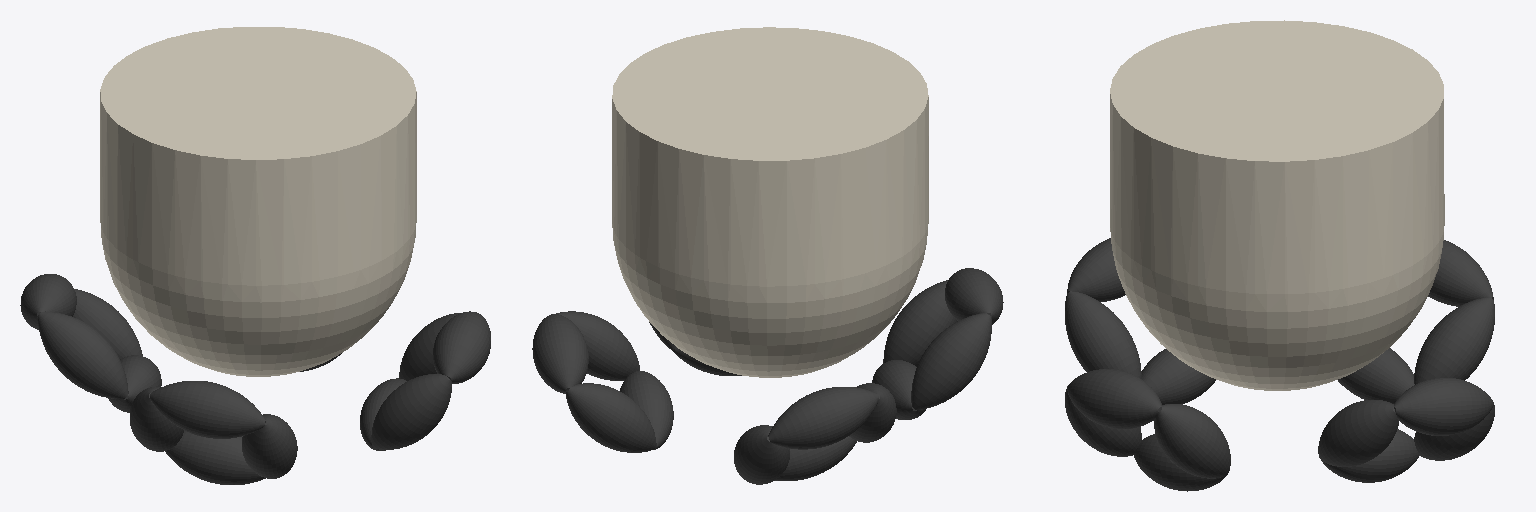
URDF robot description (pure):
<?xml version="1.0" ?>
<!-- =================================================================================== -->
<!-- |    This document was autogenerated by xacro from urdf/pure.urdf.xacro           | -->
<!-- |    EDITING THIS FILE BY HAND IS NOT RECOMMENDED                                 | -->
<!-- =================================================================================== -->
<!-- This URDF was automatically created by SolidWorks to URDF Exporter! Originally created by [author] ([email redacted]) 
     Commit Version: 1.6.0-4-g7f85cfe  Build Version: 1.6.7995.38578
     For more information, please see http://wiki.ros.org/sw_urdf_exporter -->
<robot name="pure">
  <link name="base_link">
    <inertial>
      <origin rpy="0 0 0" xyz="0 0.249140394438139 8.43545918737274E-19"/>
      <mass value="1.1584281172172"/>
      <inertia ixx="0.00684464813757771" ixy="0" ixz="1.64016473110534E-35" iyy="0.00691263481880664" iyz="4.17419320632715E-20" izz="0.00684464813757771"/>
    </inertial>
    <visual>
      <origin rpy="0 0 0" xyz="0 0 0"/>
      <geometry>
        <mesh filename="package://pure/meshes/base_link.STL"/>
      </geometry>
      <material name="">
        <color rgba="0.843137254901961 0.815686274509804 0.752941176470588 1"/>
      </material>
    </visual>
    <collision>
      <origin rpy="0 0 0" xyz="0 0 0"/>
      <geometry>
        <mesh filename="package://pure/meshes/base_link.STL"/>
      </geometry>
    </collision>
  </link>
  <link name="omni_link_0">
    <inertial>
      <origin rpy="0 0 0" xyz="-1.7913E-18 3.2929E-19 1.715E-17"/>
      <mass value="0.08478"/>
      <inertia ixx="1.5E-05" ixy="-2.788E-23" ixz="2.3372E-20" iyy="2.4349E-05" iyz="1.3086E-24" izz="1.5E-05"/>
    </inertial>
    <visual>
      <origin rpy="0 0 0" xyz="0 0 0"/>
      <geometry>
        <mesh filename="package://pure/meshes/omni_link.STL"/>
      </geometry>
      <material name="">
        <color rgba="0.89804 0.91765 0.92941 1"/>
      </material>
    </visual>
    <collision>
      <origin rpy="0 0 0" xyz="0 0 0"/>
      <geometry>
        <mesh filename="package://pure/meshes/omni_link.STL"/>
      </geometry>
    </collision>
  </link>
  <link name="omni_link_0_roller_link_0">
    <inertial>
      <origin rpy="0 0 0" xyz="-5.5511E-17 -6.9389E-18 3.8164E-17"/>
      <mass value="0.06464"/>
      <inertia ixx="1.7875E-05" ixy="3.1764E-22" ixz="7.889E-06" iyy="2.5764E-05" iyz="-2.9646E-21" izz="1.7875E-05"/>
    </inertial>
    <visual>
      <origin rpy="0 0 0" xyz="0 0 0"/>
      <geometry>
        <mesh filename="package://pure/meshes/roller_link_0.STL"/>
      </geometry>
      <material name="">
        <color rgba="0.29804 0.29804 0.29804 1"/>
      </material>
    </visual>
    <collision>
      <origin rpy="0 0 0" xyz="0 0 0"/>
      <geometry>
        <mesh filename="package://pure/meshes/roller_link_0.STL"/>
      </geometry>
    </collision>
  </link>
  <joint name="omni_link_0_roller_joint_0" type="continuous">
    <origin rpy="1.8823 0.29744 -3.0945" xyz="0.030052 -0.030052 0"/>
    <parent link="omni_link_0"/>
    <child link="omni_link_0_roller_link_0"/>
    <axis xyz="0.70711 0 -0.70711"/>
  </joint>
  <link name="omni_link_0_roller_link_1">
    <inertial>
      <origin rpy="0 0 0" xyz="-5.5511E-17 7.0183E-38 -2.0817E-17"/>
      <mass value="0.06464"/>
      <inertia ixx="1.7875E-05" ixy="-1.0848E-40" ixz="-7.889E-06" iyy="2.5764E-05" iyz="-1.147E-40" izz="1.7875E-05"/>
    </inertial>
    <visual>
      <origin rpy="0 0 0" xyz="0 0 0"/>
      <geometry>
        <mesh filename="package://pure/meshes/roller_link_1.STL"/>
      </geometry>
      <material name="">
        <color rgba="0.29804 0.29804 0.29804 1"/>
      </material>
    </visual>
    <collision>
      <origin rpy="0 0 0" xyz="0 0 0"/>
      <geometry>
        <mesh filename="package://pure/meshes/roller_link_1.STL"/>
      </geometry>
    </collision>
  </link>
  <joint name="omni_link_0_roller_joint_1" type="continuous">
    <origin rpy="-1.5708 0 -1.5708" xyz="0.030052 0.030052 0"/>
    <parent link="omni_link_0"/>
    <child link="omni_link_0_roller_link_1"/>
    <axis xyz="0.70711 0 0.70711"/>
  </joint>
  <link name="omni_link_0_roller_link_2">
    <inertial>
      <origin rpy="0 0 0" xyz="-2.6368E-16 -7.0183E-38 2.3939E-16"/>
      <mass value="0.06464"/>
      <inertia ixx="1.7875E-05" ixy="1.0848E-40" ixz="7.889E-06" iyy="2.5764E-05" iyz="-1.147E-40" izz="1.7875E-05"/>
    </inertial>
    <visual>
      <origin rpy="0 0 0" xyz="0 0 0"/>
      <geometry>
        <mesh filename="package://pure/meshes/roller_link_2.STL"/>
      </geometry>
      <material name="">
        <color rgba="0.29804 0.29804 0.29804 1"/>
      </material>
    </visual>
    <collision>
      <origin rpy="0 0 0" xyz="0 0 0"/>
      <geometry>
        <mesh filename="package://pure/meshes/roller_link_2.STL"/>
      </geometry>
    </collision>
  </link>
  <joint name="omni_link_0_roller_joint_2" type="continuous">
    <origin rpy="1.5708 0 0" xyz="-0.030052 0.030052 0"/>
    <parent link="omni_link_0"/>
    <child link="omni_link_0_roller_link_2"/>
    <axis xyz="0.70711 0 -0.70711"/>
  </joint>
  <link name="omni_link_0_roller_link_3">
    <inertial>
      <origin rpy="0 0 0" xyz="-1.3878E-17 -1.7347E-18 1.3878E-17"/>
      <mass value="0.06464"/>
      <inertia ixx="1.7875E-05" ixy="-1.4823E-21" ixz="7.889E-06" iyy="2.5764E-05" iyz="3.3087E-24" izz="1.7875E-05"/>
    </inertial>
    <visual>
      <origin rpy="0 0 0" xyz="0 0 0"/>
      <geometry>
        <mesh filename="package://pure/meshes/roller_link_3.STL"/>
      </geometry>
      <material name="">
        <color rgba="0.29804 0.29804 0.29804 1"/>
      </material>
    </visual>
    <collision>
      <origin rpy="0 0 0" xyz="0 0 0"/>
      <geometry>
        <mesh filename="package://pure/meshes/roller_link_3.STL"/>
      </geometry>
    </collision>
  </link>
  <joint name="omni_link_0_roller_joint_3" type="continuous">
    <origin rpy="1.4212 -0.14796 1.5819" xyz="-0.030052 -0.030052 0"/>
    <parent link="omni_link_0"/>
    <child link="omni_link_0_roller_link_3"/>
    <axis xyz="0.70711 0 -0.70711"/>
  </joint>
  <joint name="omni_joint_0" type="continuous">
    <origin rpy="3.5304 -0.66263 -0.17085" xyz="0.0884 0.0884 0.12502"/>
    <parent link="base_link"/>
    <child link="omni_link_0"/>
    <axis xyz="0 0 1"/>
  </joint>
  <link name="omni_link_1">
    <inertial>
      <origin rpy="0 0 0" xyz="-1.7913E-18 3.2929E-19 1.715E-17"/>
      <mass value="0.08478"/>
      <inertia ixx="1.5E-05" ixy="-2.788E-23" ixz="2.3372E-20" iyy="2.4349E-05" iyz="1.3086E-24" izz="1.5E-05"/>
    </inertial>
    <visual>
      <origin rpy="0 0 0" xyz="0 0 0"/>
      <geometry>
        <mesh filename="package://pure/meshes/omni_link.STL"/>
      </geometry>
      <material name="">
        <color rgba="0.89804 0.91765 0.92941 1"/>
      </material>
    </visual>
    <collision>
      <origin rpy="0 0 0" xyz="0 0 0"/>
      <geometry>
        <mesh filename="package://pure/meshes/omni_link.STL"/>
      </geometry>
    </collision>
  </link>
  <link name="omni_link_1_roller_link_0">
    <inertial>
      <origin rpy="0 0 0" xyz="-5.5511E-17 -6.9389E-18 3.8164E-17"/>
      <mass value="0.06464"/>
      <inertia ixx="1.7875E-05" ixy="3.1764E-22" ixz="7.889E-06" iyy="2.5764E-05" iyz="-2.9646E-21" izz="1.7875E-05"/>
    </inertial>
    <visual>
      <origin rpy="0 0 0" xyz="0 0 0"/>
      <geometry>
        <mesh filename="package://pure/meshes/roller_link_0.STL"/>
      </geometry>
      <material name="">
        <color rgba="0.29804 0.29804 0.29804 1"/>
      </material>
    </visual>
    <collision>
      <origin rpy="0 0 0" xyz="0 0 0"/>
      <geometry>
        <mesh filename="package://pure/meshes/roller_link_0.STL"/>
      </geometry>
    </collision>
  </link>
  <joint name="omni_link_1_roller_joint_0" type="continuous">
    <origin rpy="1.8823 0.29744 -3.0945" xyz="0.030052 -0.030052 0"/>
    <parent link="omni_link_1"/>
    <child link="omni_link_1_roller_link_0"/>
    <axis xyz="0.70711 0 -0.70711"/>
  </joint>
  <link name="omni_link_1_roller_link_1">
    <inertial>
      <origin rpy="0 0 0" xyz="-5.5511E-17 7.0183E-38 -2.0817E-17"/>
      <mass value="0.06464"/>
      <inertia ixx="1.7875E-05" ixy="-1.0848E-40" ixz="-7.889E-06" iyy="2.5764E-05" iyz="-1.147E-40" izz="1.7875E-05"/>
    </inertial>
    <visual>
      <origin rpy="0 0 0" xyz="0 0 0"/>
      <geometry>
        <mesh filename="package://pure/meshes/roller_link_1.STL"/>
      </geometry>
      <material name="">
        <color rgba="0.29804 0.29804 0.29804 1"/>
      </material>
    </visual>
    <collision>
      <origin rpy="0 0 0" xyz="0 0 0"/>
      <geometry>
        <mesh filename="package://pure/meshes/roller_link_1.STL"/>
      </geometry>
    </collision>
  </link>
  <joint name="omni_link_1_roller_joint_1" type="continuous">
    <origin rpy="-1.5708 0 -1.5708" xyz="0.030052 0.030052 0"/>
    <parent link="omni_link_1"/>
    <child link="omni_link_1_roller_link_1"/>
    <axis xyz="0.70711 0 0.70711"/>
  </joint>
  <link name="omni_link_1_roller_link_2">
    <inertial>
      <origin rpy="0 0 0" xyz="-2.6368E-16 -7.0183E-38 2.3939E-16"/>
      <mass value="0.06464"/>
      <inertia ixx="1.7875E-05" ixy="1.0848E-40" ixz="7.889E-06" iyy="2.5764E-05" iyz="-1.147E-40" izz="1.7875E-05"/>
    </inertial>
    <visual>
      <origin rpy="0 0 0" xyz="0 0 0"/>
      <geometry>
        <mesh filename="package://pure/meshes/roller_link_2.STL"/>
      </geometry>
      <material name="">
        <color rgba="0.29804 0.29804 0.29804 1"/>
      </material>
    </visual>
    <collision>
      <origin rpy="0 0 0" xyz="0 0 0"/>
      <geometry>
        <mesh filename="package://pure/meshes/roller_link_2.STL"/>
      </geometry>
    </collision>
  </link>
  <joint name="omni_link_1_roller_joint_2" type="continuous">
    <origin rpy="1.5708 0 0" xyz="-0.030052 0.030052 0"/>
    <parent link="omni_link_1"/>
    <child link="omni_link_1_roller_link_2"/>
    <axis xyz="0.70711 0 -0.70711"/>
  </joint>
  <link name="omni_link_1_roller_link_3">
    <inertial>
      <origin rpy="0 0 0" xyz="-1.3878E-17 -1.7347E-18 1.3878E-17"/>
      <mass value="0.06464"/>
      <inertia ixx="1.7875E-05" ixy="-1.4823E-21" ixz="7.889E-06" iyy="2.5764E-05" iyz="3.3087E-24" izz="1.7875E-05"/>
    </inertial>
    <visual>
      <origin rpy="0 0 0" xyz="0 0 0"/>
      <geometry>
        <mesh filename="package://pure/meshes/roller_link_3.STL"/>
      </geometry>
      <material name="">
        <color rgba="0.29804 0.29804 0.29804 1"/>
      </material>
    </visual>
    <collision>
      <origin rpy="0 0 0" xyz="0 0 0"/>
      <geometry>
        <mesh filename="package://pure/meshes/roller_link_3.STL"/>
      </geometry>
    </collision>
  </link>
  <joint name="omni_link_1_roller_joint_3" type="continuous">
    <origin rpy="1.4212 -0.14796 1.5819" xyz="-0.030052 -0.030052 0"/>
    <parent link="omni_link_1"/>
    <child link="omni_link_1_roller_link_3"/>
    <axis xyz="0.70711 0 -0.70711"/>
  </joint>
  <joint name="omni_joint_1" type="continuous">
    <origin rpy="3.5304 0.66263 0.17085" xyz="-0.0884 0.0884 0.12502"/>
    <parent link="base_link"/>
    <child link="omni_link_1"/>
    <axis xyz="0 0 1"/>
  </joint>
  <link name="omni_link_2">
    <inertial>
      <origin rpy="0 0 0" xyz="-1.7913E-18 3.2929E-19 1.715E-17"/>
      <mass value="0.08478"/>
      <inertia ixx="1.5E-05" ixy="-2.788E-23" ixz="2.3372E-20" iyy="2.4349E-05" iyz="1.3086E-24" izz="1.5E-05"/>
    </inertial>
    <visual>
      <origin rpy="0 0 0" xyz="0 0 0"/>
      <geometry>
        <mesh filename="package://pure/meshes/omni_link.STL"/>
      </geometry>
      <material name="">
        <color rgba="0.89804 0.91765 0.92941 1"/>
      </material>
    </visual>
    <collision>
      <origin rpy="0 0 0" xyz="0 0 0"/>
      <geometry>
        <mesh filename="package://pure/meshes/omni_link.STL"/>
      </geometry>
    </collision>
  </link>
  <link name="omni_link_2_roller_link_0">
    <inertial>
      <origin rpy="0 0 0" xyz="-5.5511E-17 -6.9389E-18 3.8164E-17"/>
      <mass value="0.06464"/>
      <inertia ixx="1.7875E-05" ixy="3.1764E-22" ixz="7.889E-06" iyy="2.5764E-05" iyz="-2.9646E-21" izz="1.7875E-05"/>
    </inertial>
    <visual>
      <origin rpy="0 0 0" xyz="0 0 0"/>
      <geometry>
        <mesh filename="package://pure/meshes/roller_link_0.STL"/>
      </geometry>
      <material name="">
        <color rgba="0.29804 0.29804 0.29804 1"/>
      </material>
    </visual>
    <collision>
      <origin rpy="0 0 0" xyz="0 0 0"/>
      <geometry>
        <mesh filename="package://pure/meshes/roller_link_0.STL"/>
      </geometry>
    </collision>
  </link>
  <joint name="omni_link_2_roller_joint_0" type="continuous">
    <origin rpy="1.8823 0.29744 -3.0945" xyz="0.030052 -0.030052 0"/>
    <parent link="omni_link_2"/>
    <child link="omni_link_2_roller_link_0"/>
    <axis xyz="0.70711 0 -0.70711"/>
  </joint>
  <link name="omni_link_2_roller_link_1">
    <inertial>
      <origin rpy="0 0 0" xyz="-5.5511E-17 7.0183E-38 -2.0817E-17"/>
      <mass value="0.06464"/>
      <inertia ixx="1.7875E-05" ixy="-1.0848E-40" ixz="-7.889E-06" iyy="2.5764E-05" iyz="-1.147E-40" izz="1.7875E-05"/>
    </inertial>
    <visual>
      <origin rpy="0 0 0" xyz="0 0 0"/>
      <geometry>
        <mesh filename="package://pure/meshes/roller_link_1.STL"/>
      </geometry>
      <material name="">
        <color rgba="0.29804 0.29804 0.29804 1"/>
      </material>
    </visual>
    <collision>
      <origin rpy="0 0 0" xyz="0 0 0"/>
      <geometry>
        <mesh filename="package://pure/meshes/roller_link_1.STL"/>
      </geometry>
    </collision>
  </link>
  <joint name="omni_link_2_roller_joint_1" type="continuous">
    <origin rpy="-1.5708 0 -1.5708" xyz="0.030052 0.030052 0"/>
    <parent link="omni_link_2"/>
    <child link="omni_link_2_roller_link_1"/>
    <axis xyz="0.70711 0 0.70711"/>
  </joint>
  <link name="omni_link_2_roller_link_2">
    <inertial>
      <origin rpy="0 0 0" xyz="-2.6368E-16 -7.0183E-38 2.3939E-16"/>
      <mass value="0.06464"/>
      <inertia ixx="1.7875E-05" ixy="1.0848E-40" ixz="7.889E-06" iyy="2.5764E-05" iyz="-1.147E-40" izz="1.7875E-05"/>
    </inertial>
    <visual>
      <origin rpy="0 0 0" xyz="0 0 0"/>
      <geometry>
        <mesh filename="package://pure/meshes/roller_link_2.STL"/>
      </geometry>
      <material name="">
        <color rgba="0.29804 0.29804 0.29804 1"/>
      </material>
    </visual>
    <collision>
      <origin rpy="0 0 0" xyz="0 0 0"/>
      <geometry>
        <mesh filename="package://pure/meshes/roller_link_2.STL"/>
      </geometry>
    </collision>
  </link>
  <joint name="omni_link_2_roller_joint_2" type="continuous">
    <origin rpy="1.5708 0 0" xyz="-0.030052 0.030052 0"/>
    <parent link="omni_link_2"/>
    <child link="omni_link_2_roller_link_2"/>
    <axis xyz="0.70711 0 -0.70711"/>
  </joint>
  <link name="omni_link_2_roller_link_3">
    <inertial>
      <origin rpy="0 0 0" xyz="-1.3878E-17 -1.7347E-18 1.3878E-17"/>
      <mass value="0.06464"/>
      <inertia ixx="1.7875E-05" ixy="-1.4823E-21" ixz="7.889E-06" iyy="2.5764E-05" iyz="3.3087E-24" izz="1.7875E-05"/>
    </inertial>
    <visual>
      <origin rpy="0 0 0" xyz="0 0 0"/>
      <geometry>
        <mesh filename="package://pure/meshes/roller_link_3.STL"/>
      </geometry>
      <material name="">
        <color rgba="0.29804 0.29804 0.29804 1"/>
      </material>
    </visual>
    <collision>
      <origin rpy="0 0 0" xyz="0 0 0"/>
      <geometry>
        <mesh filename="package://pure/meshes/roller_link_3.STL"/>
      </geometry>
    </collision>
  </link>
  <joint name="omni_link_2_roller_joint_3" type="continuous">
    <origin rpy="1.4212 -0.14796 1.5819" xyz="-0.030052 -0.030052 0"/>
    <parent link="omni_link_2"/>
    <child link="omni_link_2_roller_link_3"/>
    <axis xyz="0.70711 0 -0.70711"/>
  </joint>
  <joint name="omni_joint_2" type="continuous">
    <origin rpy="2.5544 0.66263 -0.17085" xyz="-0.0884 -0.0884 0.12502"/>
    <parent link="base_link"/>
    <child link="omni_link_2"/>
    <axis xyz="0 0 1"/>
  </joint>
  <link name="omni_link_3">
    <inertial>
      <origin rpy="0 0 0" xyz="-1.7913E-18 3.2929E-19 1.715E-17"/>
      <mass value="0.08478"/>
      <inertia ixx="1.5E-05" ixy="-2.788E-23" ixz="2.3372E-20" iyy="2.4349E-05" iyz="1.3086E-24" izz="1.5E-05"/>
    </inertial>
    <visual>
      <origin rpy="0 0 0" xyz="0 0 0"/>
      <geometry>
        <mesh filename="package://pure/meshes/omni_link.STL"/>
      </geometry>
      <material name="">
        <color rgba="0.89804 0.91765 0.92941 1"/>
      </material>
    </visual>
    <collision>
      <origin rpy="0 0 0" xyz="0 0 0"/>
      <geometry>
        <mesh filename="package://pure/meshes/omni_link.STL"/>
      </geometry>
    </collision>
  </link>
  <link name="omni_link_3_roller_link_0">
    <inertial>
      <origin rpy="0 0 0" xyz="-5.5511E-17 -6.9389E-18 3.8164E-17"/>
      <mass value="0.06464"/>
      <inertia ixx="1.7875E-05" ixy="3.1764E-22" ixz="7.889E-06" iyy="2.5764E-05" iyz="-2.9646E-21" izz="1.7875E-05"/>
    </inertial>
    <visual>
      <origin rpy="0 0 0" xyz="0 0 0"/>
      <geometry>
        <mesh filename="package://pure/meshes/roller_link_0.STL"/>
      </geometry>
      <material name="">
        <color rgba="0.29804 0.29804 0.29804 1"/>
      </material>
    </visual>
    <collision>
      <origin rpy="0 0 0" xyz="0 0 0"/>
      <geometry>
        <mesh filename="package://pure/meshes/roller_link_0.STL"/>
      </geometry>
    </collision>
  </link>
  <joint name="omni_link_3_roller_joint_0" type="continuous">
    <origin rpy="1.8823 0.29744 -3.0945" xyz="0.030052 -0.030052 0"/>
    <parent link="omni_link_3"/>
    <child link="omni_link_3_roller_link_0"/>
    <axis xyz="0.70711 0 -0.70711"/>
  </joint>
  <link name="omni_link_3_roller_link_1">
    <inertial>
      <origin rpy="0 0 0" xyz="-5.5511E-17 7.0183E-38 -2.0817E-17"/>
      <mass value="0.06464"/>
      <inertia ixx="1.7875E-05" ixy="-1.0848E-40" ixz="-7.889E-06" iyy="2.5764E-05" iyz="-1.147E-40" izz="1.7875E-05"/>
    </inertial>
    <visual>
      <origin rpy="0 0 0" xyz="0 0 0"/>
      <geometry>
        <mesh filename="package://pure/meshes/roller_link_1.STL"/>
      </geometry>
      <material name="">
        <color rgba="0.29804 0.29804 0.29804 1"/>
      </material>
    </visual>
    <collision>
      <origin rpy="0 0 0" xyz="0 0 0"/>
      <geometry>
        <mesh filename="package://pure/meshes/roller_link_1.STL"/>
      </geometry>
    </collision>
  </link>
  <joint name="omni_link_3_roller_joint_1" type="continuous">
    <origin rpy="-1.5708 0 -1.5708" xyz="0.030052 0.030052 0"/>
    <parent link="omni_link_3"/>
    <child link="omni_link_3_roller_link_1"/>
    <axis xyz="0.70711 0 0.70711"/>
  </joint>
  <link name="omni_link_3_roller_link_2">
    <inertial>
      <origin rpy="0 0 0" xyz="-2.6368E-16 -7.0183E-38 2.3939E-16"/>
      <mass value="0.06464"/>
      <inertia ixx="1.7875E-05" ixy="1.0848E-40" ixz="7.889E-06" iyy="2.5764E-05" iyz="-1.147E-40" izz="1.7875E-05"/>
    </inertial>
    <visual>
      <origin rpy="0 0 0" xyz="0 0 0"/>
      <geometry>
        <mesh filename="package://pure/meshes/roller_link_2.STL"/>
      </geometry>
      <material name="">
        <color rgba="0.29804 0.29804 0.29804 1"/>
      </material>
    </visual>
    <collision>
      <origin rpy="0 0 0" xyz="0 0 0"/>
      <geometry>
        <mesh filename="package://pure/meshes/roller_link_2.STL"/>
      </geometry>
    </collision>
  </link>
  <joint name="omni_link_3_roller_joint_2" type="continuous">
    <origin rpy="1.5708 0 0" xyz="-0.030052 0.030052 0"/>
    <parent link="omni_link_3"/>
    <child link="omni_link_3_roller_link_2"/>
    <axis xyz="0.70711 0 -0.70711"/>
  </joint>
  <link name="omni_link_3_roller_link_3">
    <inertial>
      <origin rpy="0 0 0" xyz="-1.3878E-17 -1.7347E-18 1.3878E-17"/>
      <mass value="0.06464"/>
      <inertia ixx="1.7875E-05" ixy="-1.4823E-21" ixz="7.889E-06" iyy="2.5764E-05" iyz="3.3087E-24" izz="1.7875E-05"/>
    </inertial>
    <visual>
      <origin rpy="0 0 0" xyz="0 0 0"/>
      <geometry>
        <mesh filename="package://pure/meshes/roller_link_3.STL"/>
      </geometry>
      <material name="">
        <color rgba="0.29804 0.29804 0.29804 1"/>
      </material>
    </visual>
    <collision>
      <origin rpy="0 0 0" xyz="0 0 0"/>
      <geometry>
        <mesh filename="package://pure/meshes/roller_link_3.STL"/>
      </geometry>
    </collision>
  </link>
  <joint name="omni_link_3_roller_joint_3" type="continuous">
    <origin rpy="1.4212 -0.14796 1.5819" xyz="-0.030052 -0.030052 0"/>
    <parent link="omni_link_3"/>
    <child link="omni_link_3_roller_link_3"/>
    <axis xyz="0.70711 0 -0.70711"/>
  </joint>
  <joint name="omni_joint_3" type="continuous">
    <origin rpy="2.5544 -0.66263 0.17085" xyz="0.0884 -0.0884 0.12502"/>
    <parent link="base_link"/>
    <child link="omni_link_3"/>
    <axis xyz="0 0 1"/>
  </joint>
</robot>

--- What the picture shows (computed from the rendered views, not written in the file) ---
The picture shows the robot from 3 angles, left to right: view 1: azimuth 30°, elevation 25°; view 2: azimuth 150°, elevation 25°; view 3: azimuth 270°, elevation 25°; orthographic projection.
Robot: pure — 21 links, 20 joints (20 continuous); root link base_link; default pose: every joint at zero.
Links seen in each view (by area): view 1: base_link, omni_link_1_roller_link_2, omni_link_2_roller_link_2, omni_link_3_roller_link_2, omni_link_2_roller_link_0, omni_link_3_roller_link_1, omni_link_2_roller_link_1, omni_link_1_roller_link_0, omni_link_1_roller_link_3, omni_link_2_roller_link_3, omni_link_3_roller_link_0, omni_link_1_roller_link_1 (+1 smaller); view 2: base_link, omni_link_2_roller_link_3, omni_link_1_roller_link_3, omni_link_0_roller_link_3, omni_link_0_roller_link_0, omni_link_2_roller_link_1, omni_link_0_roller_link_1, omni_link_2_roller_link_2, omni_link_1_roller_link_0, omni_link_0_roller_link_2, omni_link_1_roller_link_1, omni_link_2_roller_link_0 (+1 smaller); view 3: base_link, omni_link_1_roller_link_0, omni_link_0_roller_link_0, omni_link_2_roller_link_1, omni_link_3_roller_link_1, omni_link_3_roller_link_0, omni_link_0_roller_link_1, omni_link_1_roller_link_3, omni_link_1_roller_link_1, omni_link_2_roller_link_0, omni_link_2_roller_link_2, omni_link_0_roller_link_2 (+3 smaller).
Boxes of the visible links, box(x1,y1,x2,y2) form: base_link: box(100, 27, 416, 376); omni_link_1_roller_link_2: box(37, 311, 128, 398); omni_link_2_roller_link_2: box(150, 381, 265, 438); omni_link_3_roller_link_2: box(371, 374, 451, 449); omni_link_2_roller_link_0: box(165, 430, 265, 484); omni_link_3_roller_link_1: box(433, 311, 490, 383); omni_link_2_roller_link_1: box(242, 414, 297, 478); omni_link_1_roller_link_0: box(73, 289, 142, 358); omni_link_1_roller_link_3: box(20, 274, 76, 329); omni_link_2_roller_link_3: box(130, 387, 183, 451); omni_link_3_roller_link_0: box(399, 312, 463, 380); omni_link_1_roller_link_1: box(108, 355, 161, 412); base_link: box(612, 27, 928, 377); omni_link_2_roller_link_3: box(911, 313, 991, 409); omni_link_1_roller_link_3: box(768, 387, 878, 449); omni_link_0_roller_link_3: box(566, 383, 656, 452); omni_link_0_roller_link_0: box(532, 314, 588, 393); omni_link_2_roller_link_1: box(883, 280, 957, 366); omni_link_0_roller_link_1: box(556, 311, 639, 380); omni_link_2_roller_link_2: box(945, 268, 1003, 324); omni_link_1_roller_link_0: box(734, 425, 789, 484); omni_link_0_roller_link_2: box(620, 371, 673, 449); omni_link_1_roller_link_1: box(775, 436, 856, 480); omni_link_2_roller_link_0: box(872, 360, 925, 419); base_link: box(1110, 20, 1444, 390); omni_link_1_roller_link_0: box(1414, 298, 1494, 384); omni_link_0_roller_link_0: box(1394, 378, 1493, 435); omni_link_2_roller_link_1: box(1065, 291, 1141, 378); omni_link_3_roller_link_1: box(1067, 369, 1161, 428); omni_link_3_roller_link_0: box(1154, 404, 1230, 478); omni_link_0_roller_link_1: box(1318, 400, 1398, 466); omni_link_1_roller_link_3: box(1428, 240, 1493, 306); omni_link_1_roller_link_1: box(1338, 348, 1414, 403); omni_link_2_roller_link_0: box(1142, 349, 1215, 404); omni_link_2_roller_link_2: box(1067, 238, 1125, 301); omni_link_0_roller_link_2: box(1321, 429, 1418, 482).
Bounding box of the posed robot: 0.2827 × 0.294 × 0.2661 m (x, y, z).
Meshes: 6 distinct files referenced, 17 mesh visuals loaded (5 binary STL); not drawn: 4 (reference not matched to a file when rendering).
